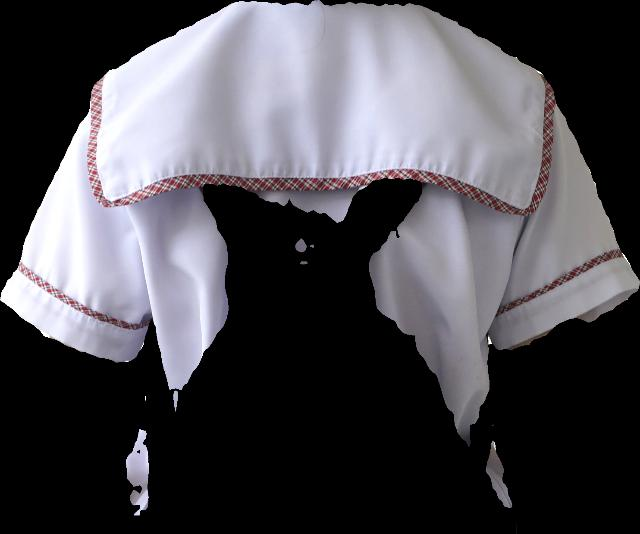pologirl: (0, 0, 639, 447)
